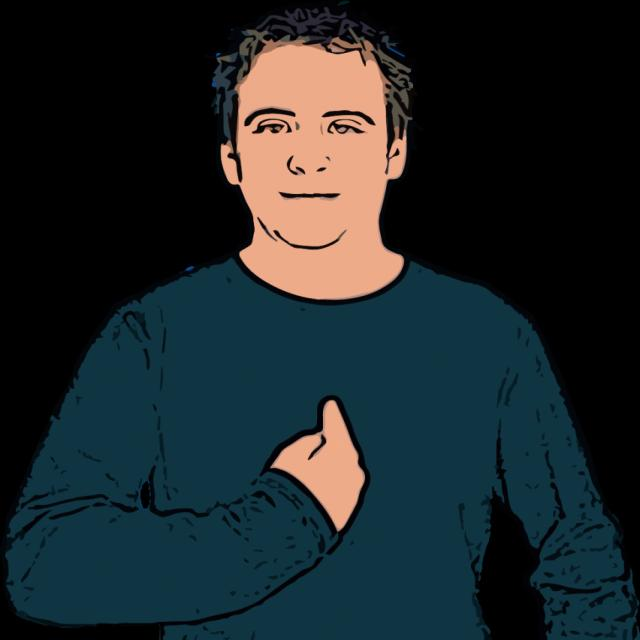i: (224, 393, 405, 559)
